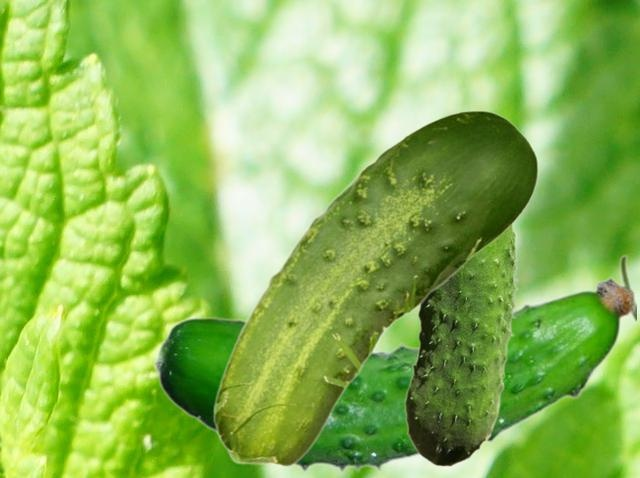cucumber: (212, 110, 537, 466), (151, 254, 635, 473), (404, 224, 518, 466)
